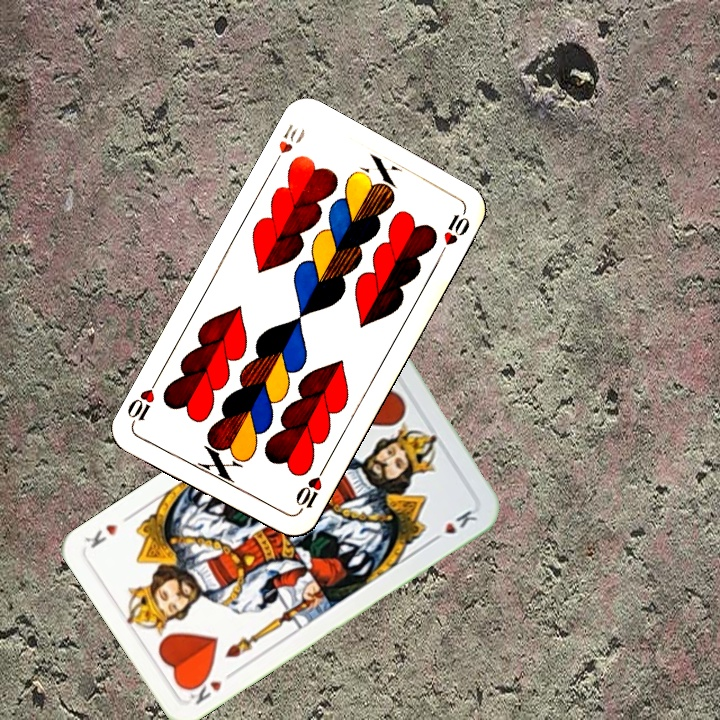H10: (267, 120, 308, 172), (291, 463, 328, 517)
HK: (183, 666, 239, 707)
